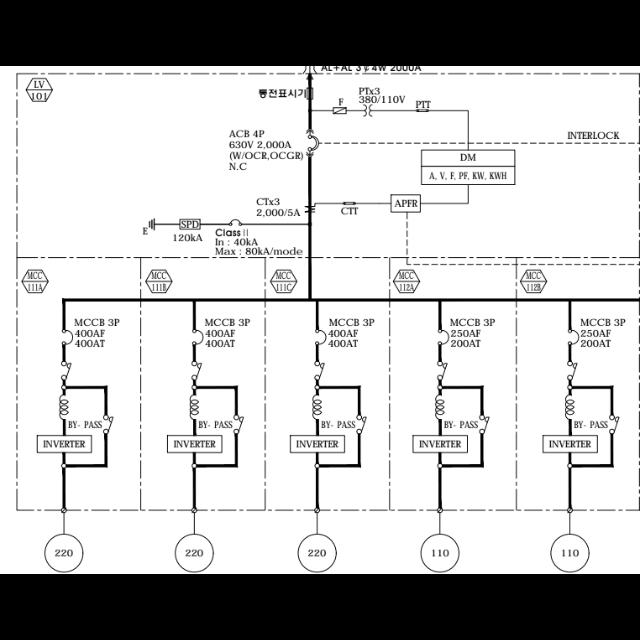ACB: (308, 136, 318, 150)
CT: (304, 203, 316, 214)
GND: (148, 218, 156, 230)
MCCB: (568, 329, 580, 346), (192, 331, 204, 345), (316, 330, 326, 346), (438, 330, 448, 346), (64, 330, 72, 346), (229, 220, 241, 227)
PF2: (332, 107, 346, 113)
PT: (362, 104, 372, 116)
SR: (56, 394, 70, 424), (310, 393, 324, 422), (188, 396, 202, 422), (563, 392, 575, 420), (434, 396, 446, 422)
